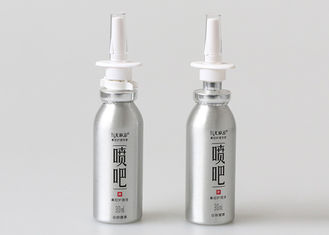Aerosol_cans: (184, 14, 238, 227), (92, 13, 145, 225)
